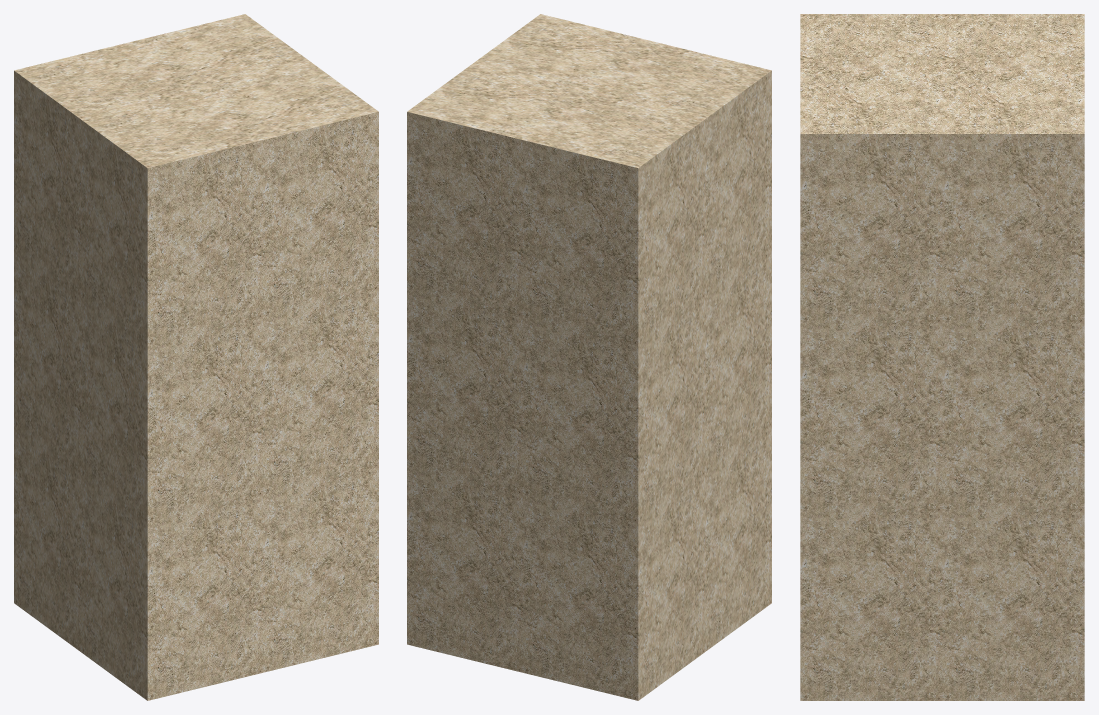
File: thm_tato_imprv_pillar_sml_s01_l0.fbx
The picture shows the model from 3 angles, left to right: view 1: azimuth 30°, elevation 25°; view 2: azimuth 150°, elevation 25°; view 3: azimuth 270°, elevation 25°; orthographic projection. The views are drawn at different scales.
Parts seen in each view (by area): view 1: mesh_node; view 2: mesh_node; view 3: mesh_node.
Boxes of the visible parts, x1=… form: mesh_node: x1=14, y1=14, x2=378, y2=700; mesh_node: x1=407, y1=14, x2=771, y2=700; mesh_node: x1=800, y1=14, x2=1084, y2=700.
Size of the model in its own units: 1 by 2.2 by 1.
